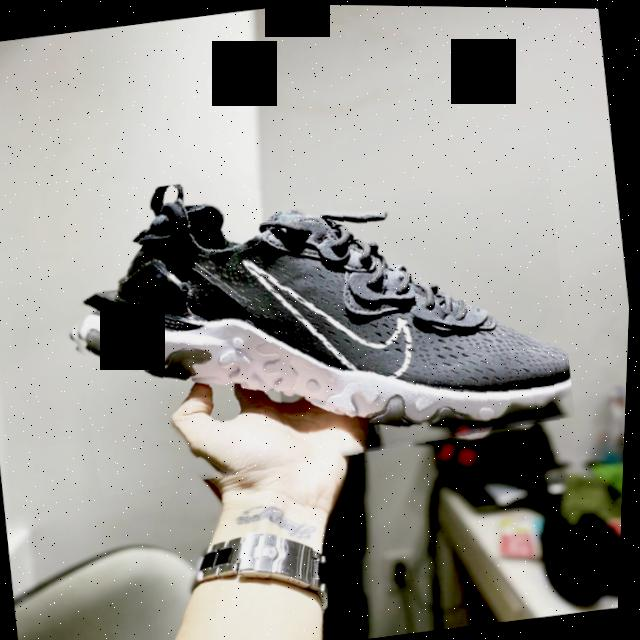shoe: (46, 131, 589, 505)
